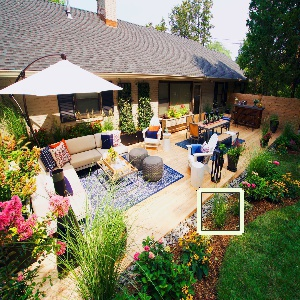square: (195, 185, 246, 238)
